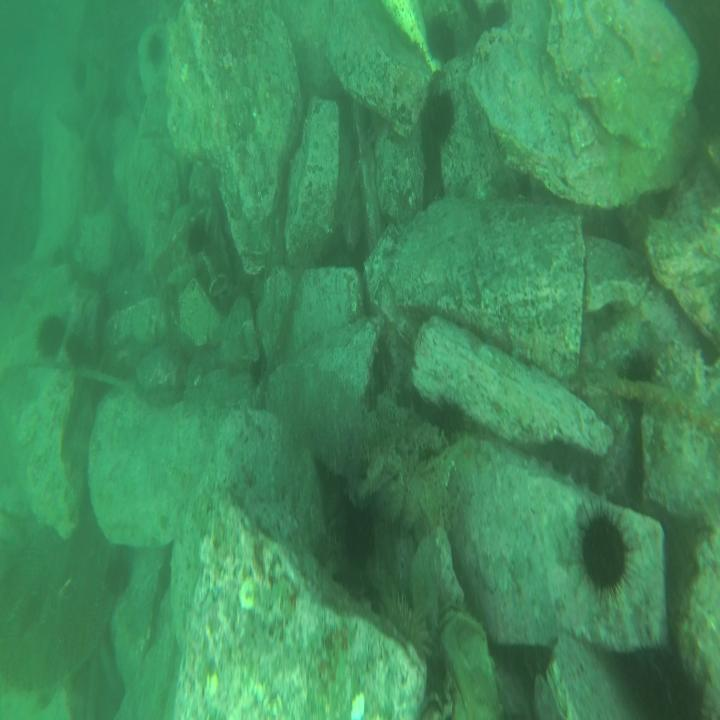echinus: (570, 489, 642, 606), (379, 580, 427, 653), (423, 82, 457, 154), (36, 307, 70, 362)
